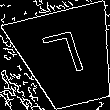L_S: (42, 29, 94, 87)
